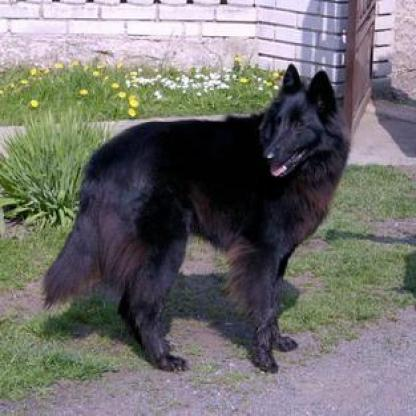groenendael: (40, 62, 348, 374)
